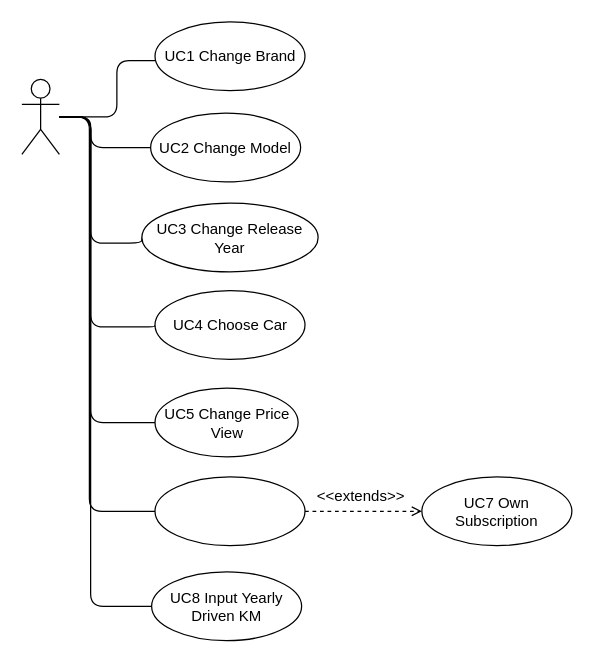
This 594x663 diagram has some shape labels left out. Here are the shapes that lost their labels. From the top down, the centre of each, then its label:
At (x=40, y=116): "Actor".
At (x=229, y=511): "UC6 Own or rent Chargin station".
